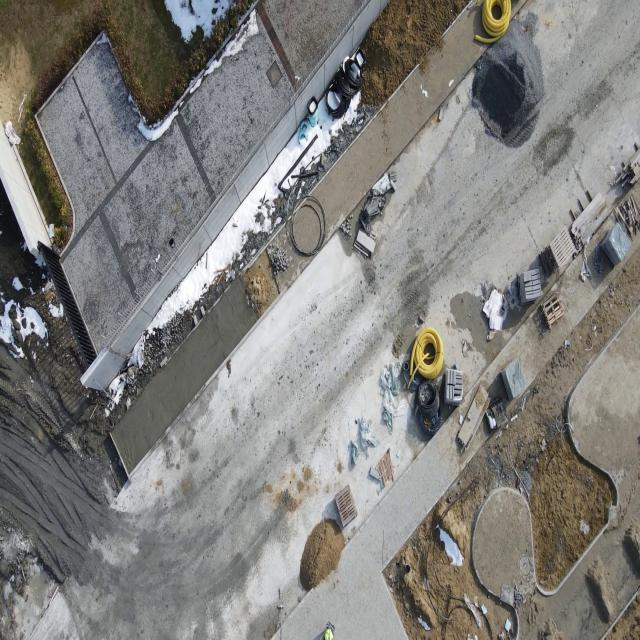p3rson: (323, 619, 335, 640)
